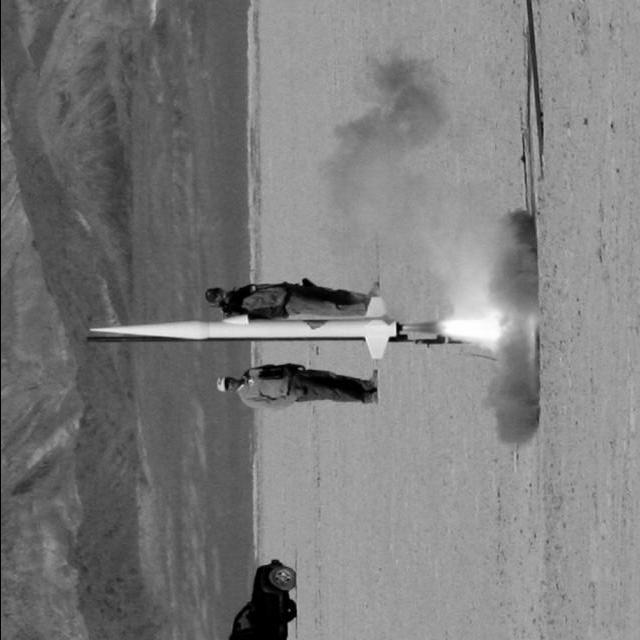missile: (87, 310, 396, 345)
